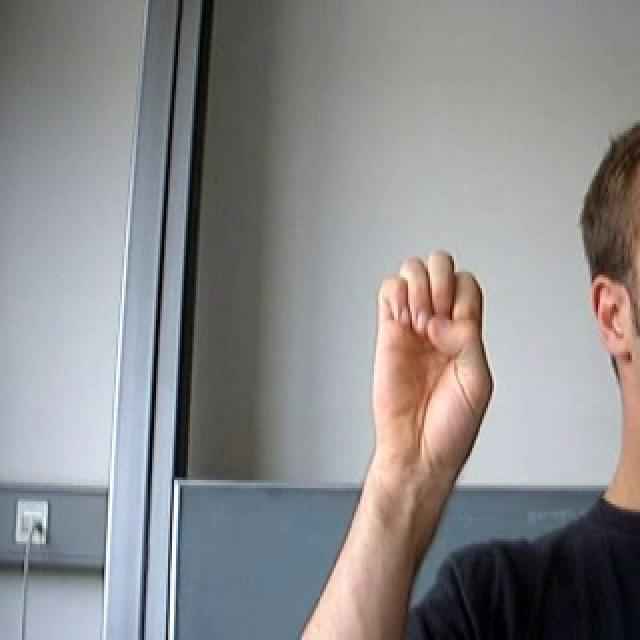E: (355, 234, 502, 496)
